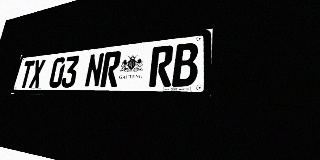0: (48, 57, 66, 88)
3: (60, 55, 80, 88)
B: (172, 42, 199, 87)
N: (84, 52, 105, 87)
R: (149, 45, 174, 87), (100, 51, 122, 87)
T: (18, 60, 35, 88)
X: (28, 59, 46, 88)
